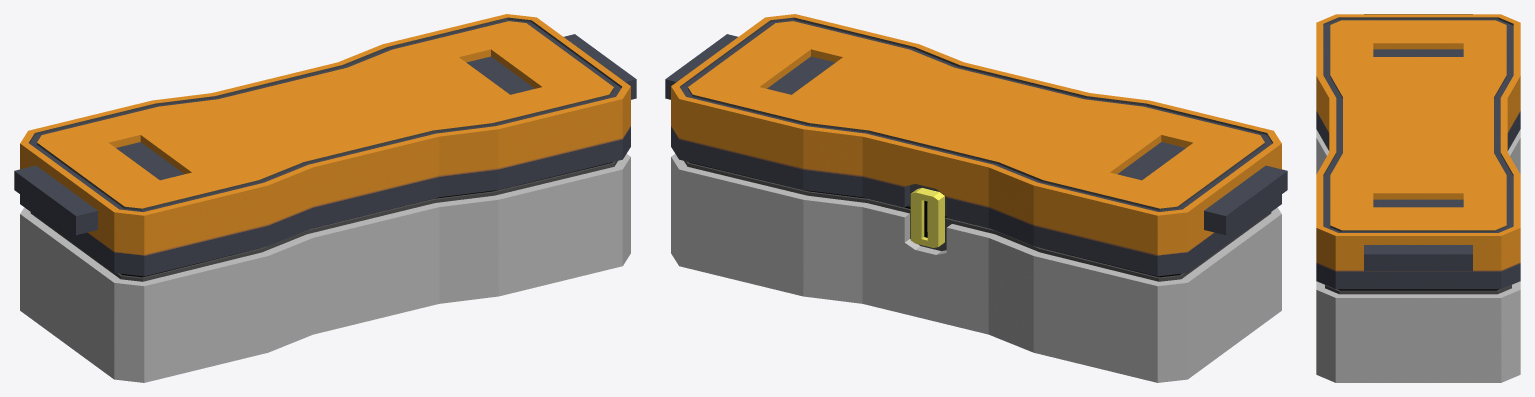
Rendered from CRATE.FBX.
3 renders of one model, left to right at view 1: azimuth 30°, elevation 25°; view 2: azimuth 150°, elevation 25°; view 3: azimuth 270°, elevation 25°, orthographic. The views are drawn at different scales.
Visible parts, largest first — view 1: Box014; view 2: Box014; view 3: Box014.
Part boxes in pixels (x1,y1,x2,y2): Box014: [14, 14, 636, 382]; Box014: [665, 14, 1287, 382]; Box014: [1316, 14, 1520, 382].
Size of the model in its own units: 202 by 57.71 by 72.61.
1 material, 1 textured.
